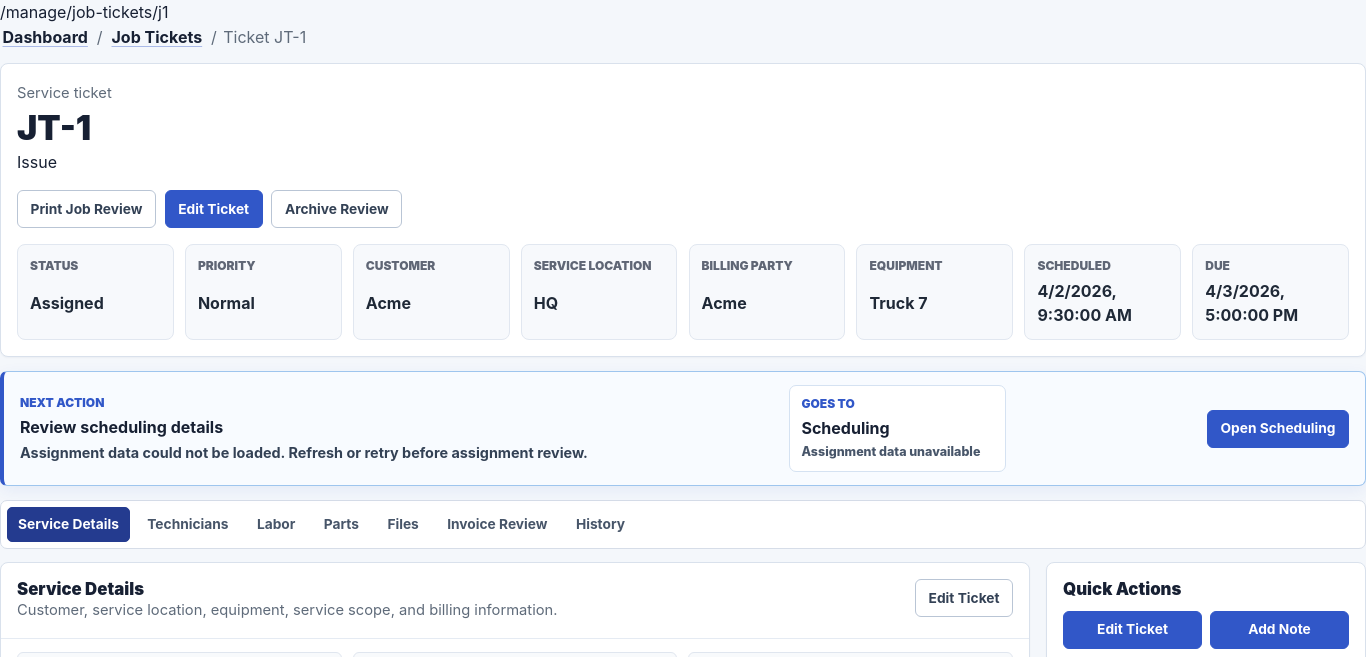
Scenario: JobTicketDetailPage › marks work readiness unavailable and disables assignment edits when assignments fail to load
Expected: the heading "JT-1" is shown, [17,107,91,148]
What coordinates should you click on to do the following:
click the tab "Technicians"
I would click on:
 (188, 524)
Its box is [136,507,240,542].
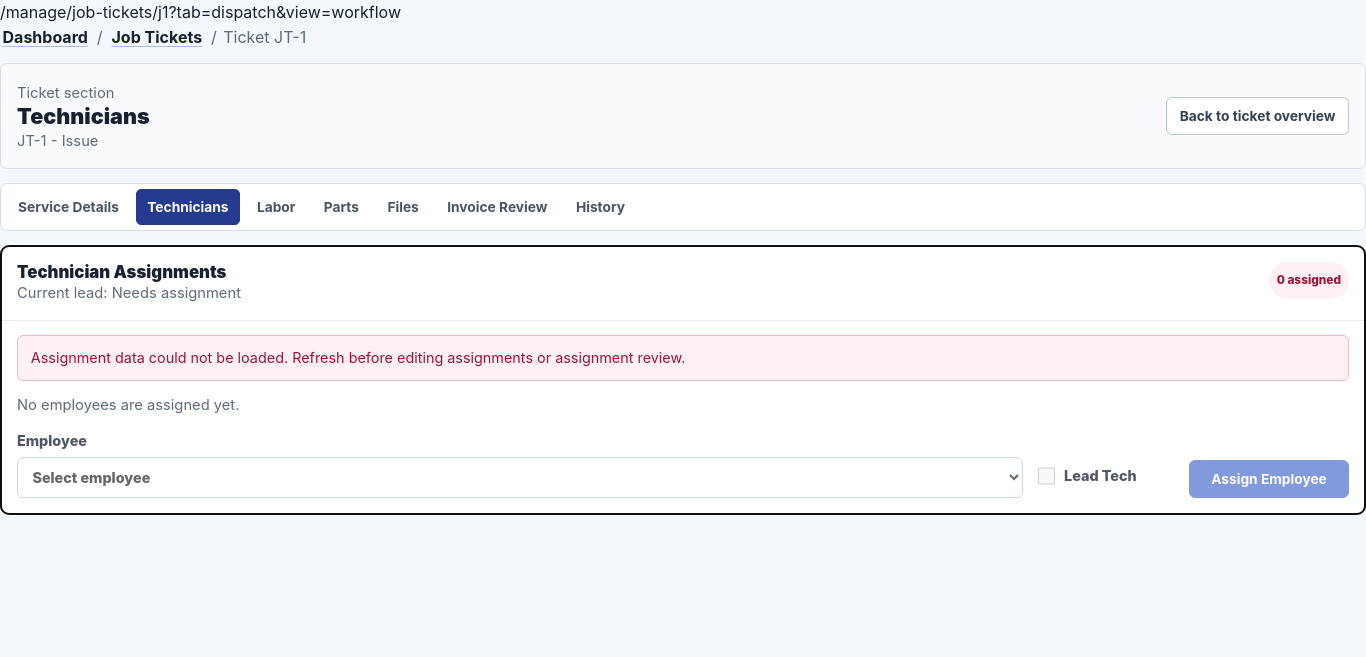
Result: the message shows "Assignment data could not be loaded. Refresh before editing assignments or assignment review." at [31,349,685,366]
Result: the button "Assign Employee" is disabled at [1189,460,1349,498]
